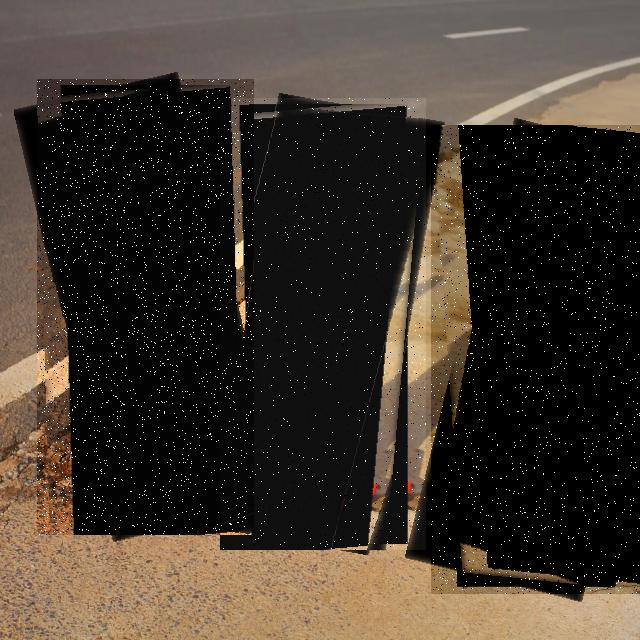Traffic-cone: (37, 79, 254, 535), (431, 125, 640, 594), (220, 98, 426, 550)
